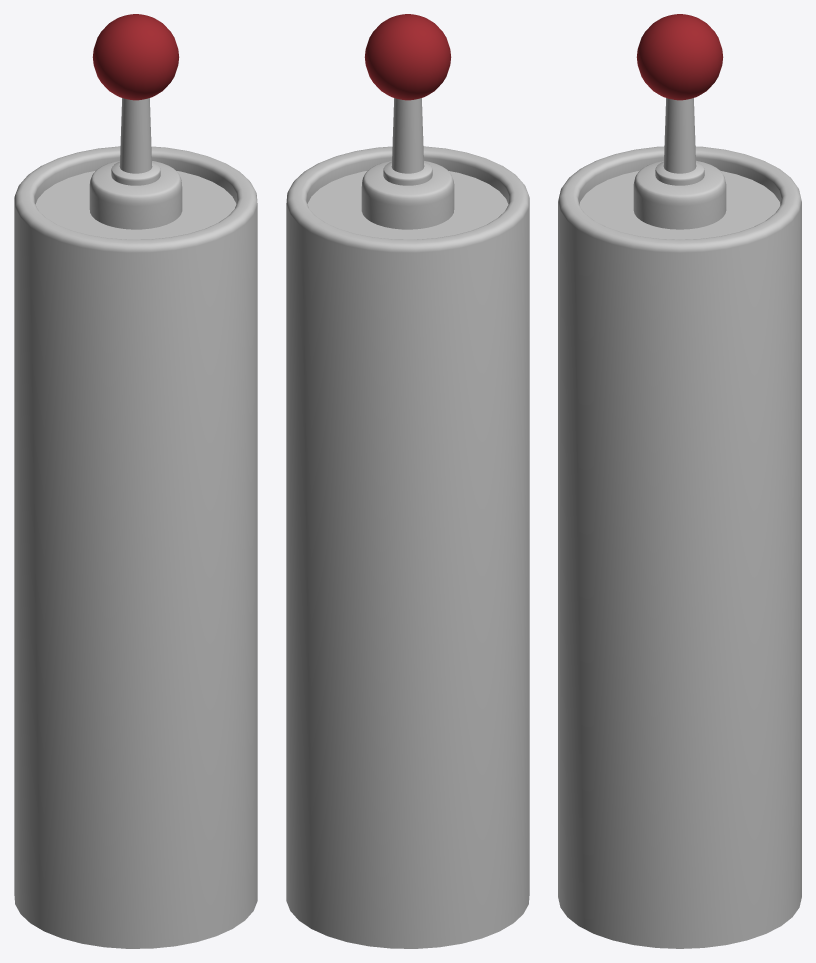
The model's file is kol1.fbx.
3 views of the same model, side by side, from view 1: azimuth 30°, elevation 25°; view 2: azimuth 150°, elevation 25°; view 3: azimuth 270°, elevation 25° (orthographic).
Parts seen in each view (by area): view 1: Circle.001, Sphere, Cylinder, Cylinder.001; view 2: Circle.001, Sphere, Cylinder, Cylinder.001; view 3: Circle.001, Sphere, Cylinder, Cylinder.001.
Boxes of the visible parts, left/top/right/bottom form: Circle.001: left=14, top=146, right=257, bottom=948; Sphere: left=92, top=14, right=179, bottom=100; Cylinder: left=89, top=161, right=182, bottom=229; Cylinder.001: left=119, top=98, right=152, bottom=173; Circle.001: left=286, top=146, right=529, bottom=948; Sphere: left=364, top=14, right=451, bottom=100; Cylinder: left=361, top=161, right=454, bottom=229; Cylinder.001: left=391, top=98, right=424, bottom=173; Circle.001: left=558, top=146, right=801, bottom=948; Sphere: left=636, top=14, right=723, bottom=100; Cylinder: left=633, top=160, right=726, bottom=229; Cylinder.001: left=663, top=98, right=696, bottom=173.
Bounding box in the file's own units: 564 × 2245 × 564.
